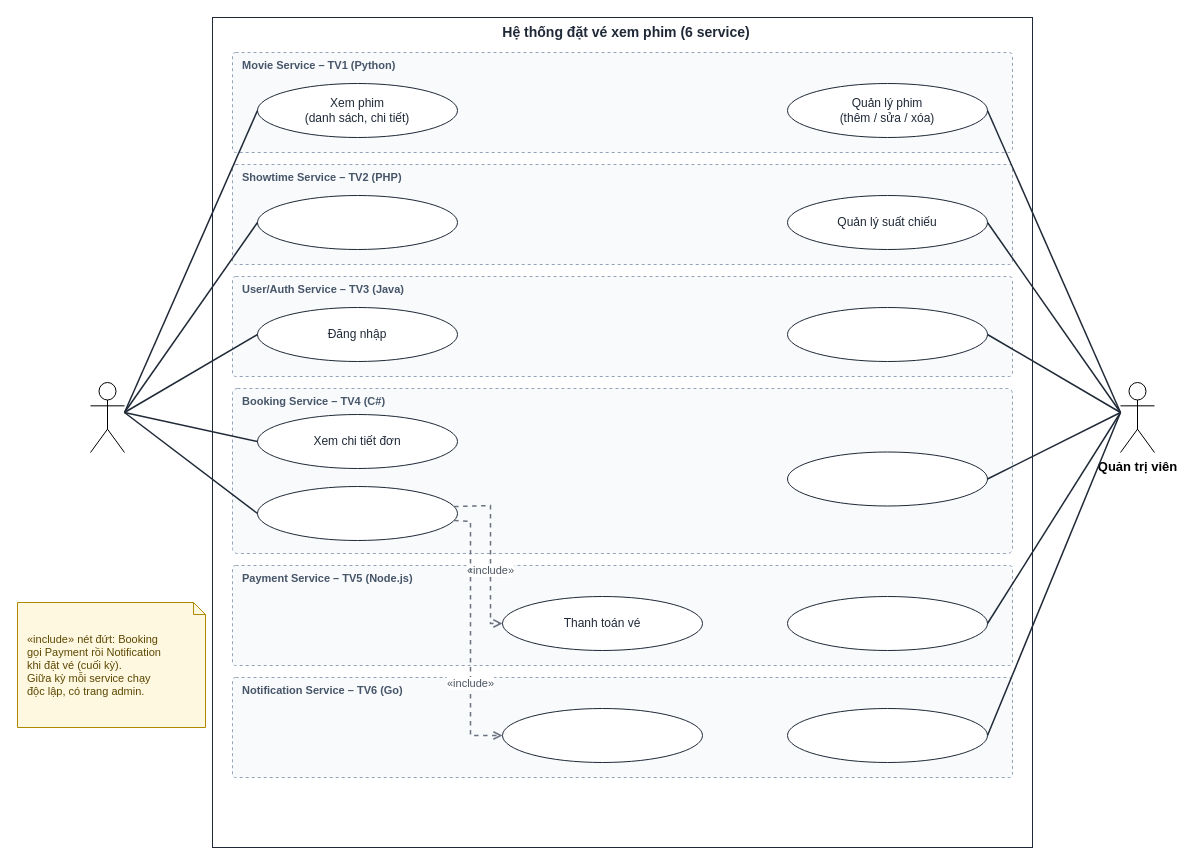
This 1194x865 diagram has some shape labels left out. The shapes that lost their labels are listed below. From the top down, each one's centre as x and y in pixels, then its label:
At (357,222): "Xem lịch chiếu và giá vé".
At (887,334): "Xem danh sách người dùng".
At (107,417): "Khách hàng".
At (887,478): "Xem danh sách đơn".
At (357,513): "Đặt vé".
At (887,623): "Xem lịch sử thanh toán".
At (602,735): "Gửi thông báo xác nhận".
At (887,735): "Xem nhật ký thông báo".
